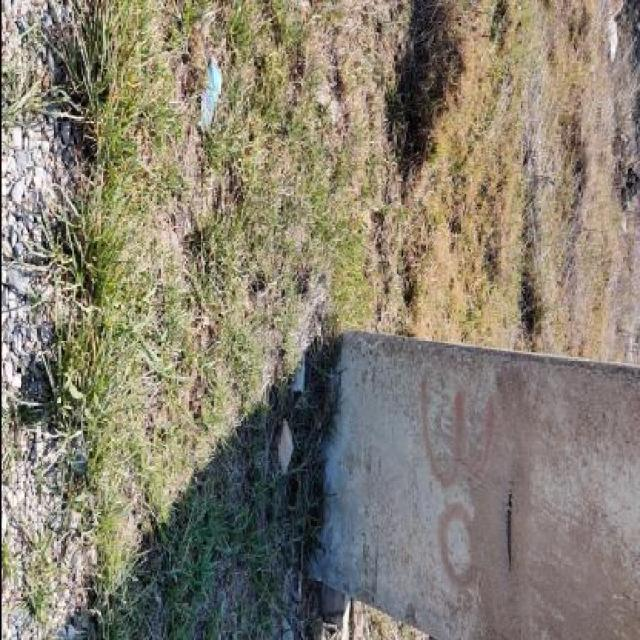plastic: (196, 53, 222, 133)
